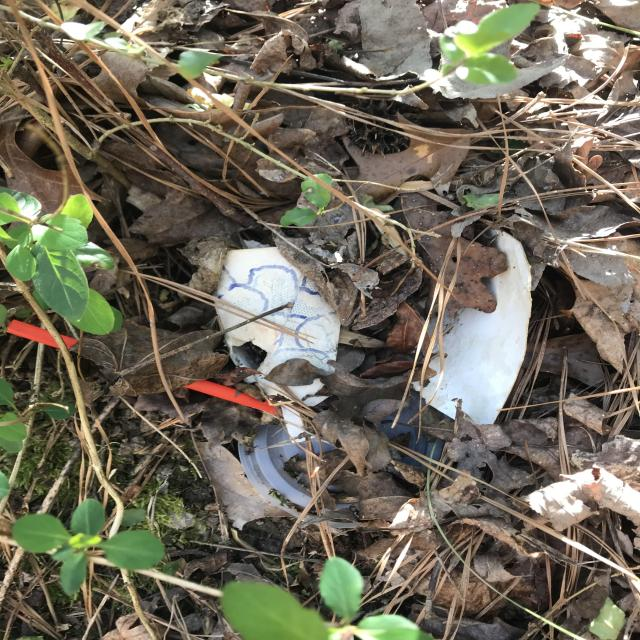litter: (238, 382, 455, 528), (6, 319, 281, 417), (210, 248, 342, 400), (427, 229, 524, 420)
